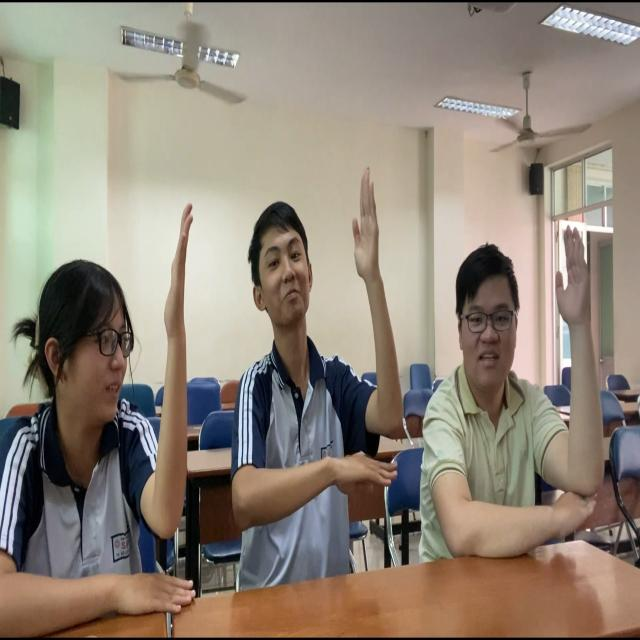raise_hand: (3, 176, 208, 623), (220, 166, 408, 599), (417, 225, 612, 573)
